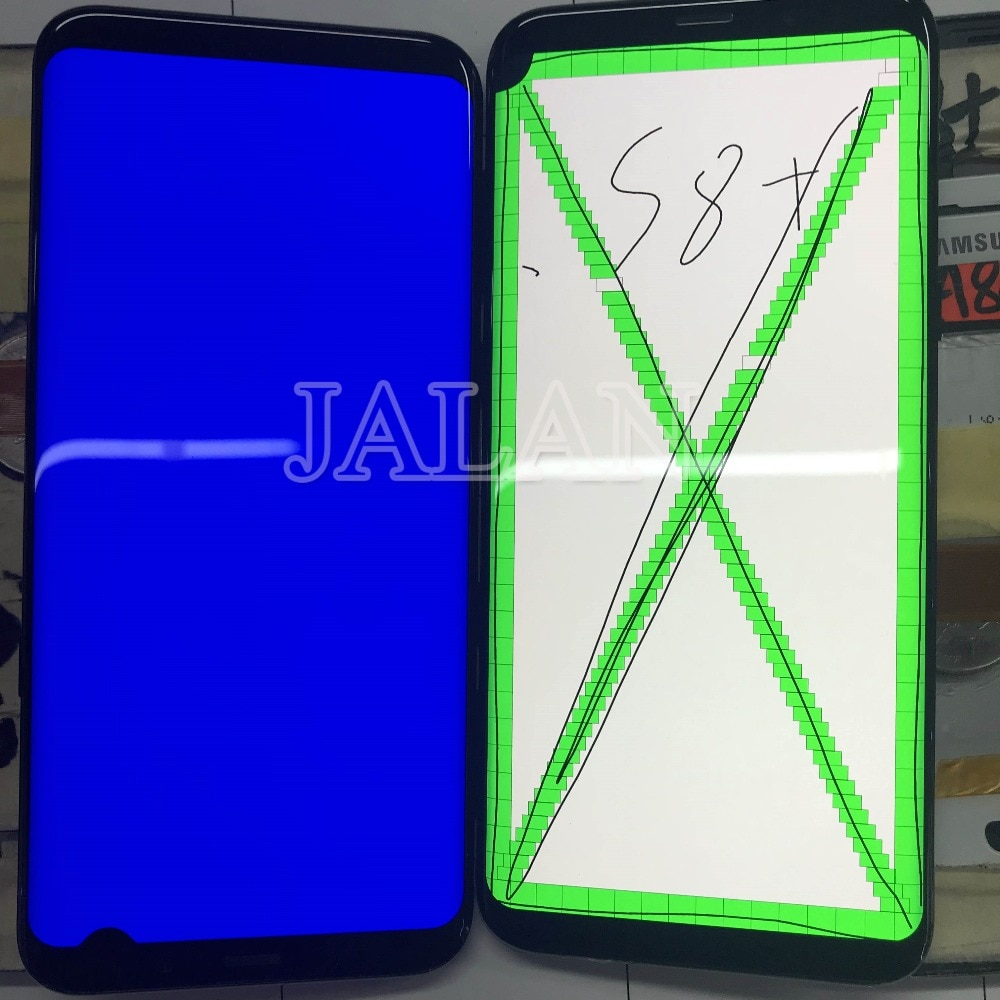Phone: (11, 1, 490, 997), (484, 3, 940, 989)
